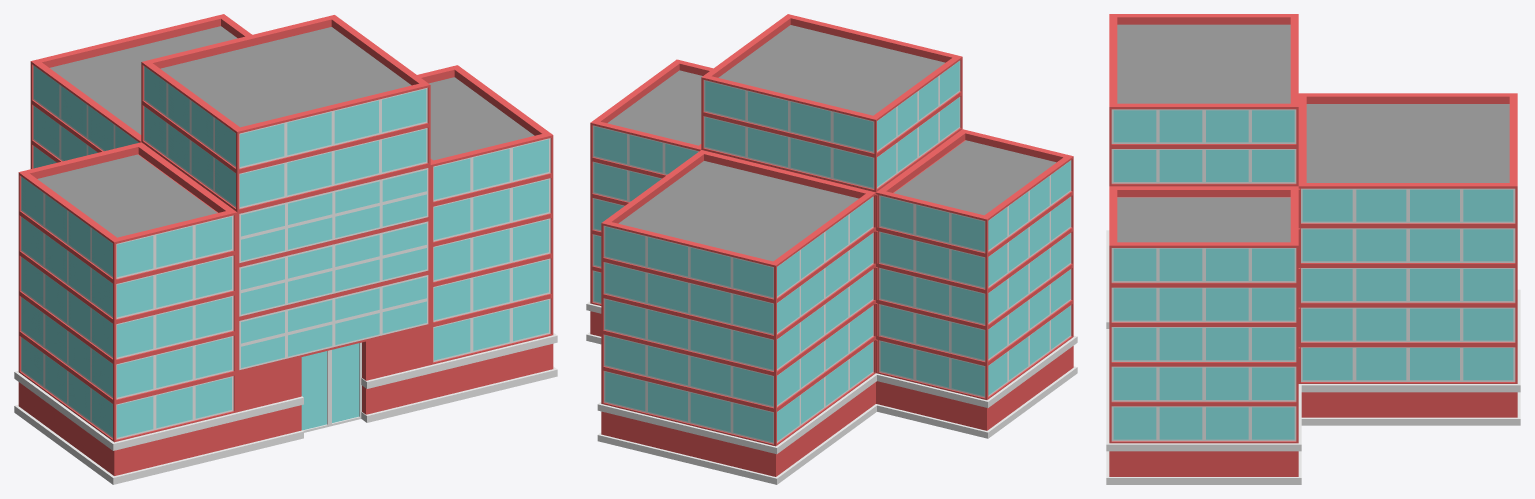
The model's file is SM_House_14_02.FBX.
3 renders of one model, left to right at view 1: azimuth 30°, elevation 25°; view 2: azimuth 150°, elevation 25°; view 3: azimuth 270°, elevation 25°, orthographic. The views are drawn at different scales.
Parts seen in each view (by area): view 1: SM_House_14_02; view 2: SM_House_14_02; view 3: SM_House_14_02.
Part boxes in pixels (x1,y1,x2,y2): SM_House_14_02: [14, 14, 557, 484]; SM_House_14_02: [586, 14, 1077, 484]; SM_House_14_02: [1106, 14, 1520, 484].
Bounding box in the file's own units: 11.59 × 8 × 9.47.
Materials: 1 (1 with a texture image).
